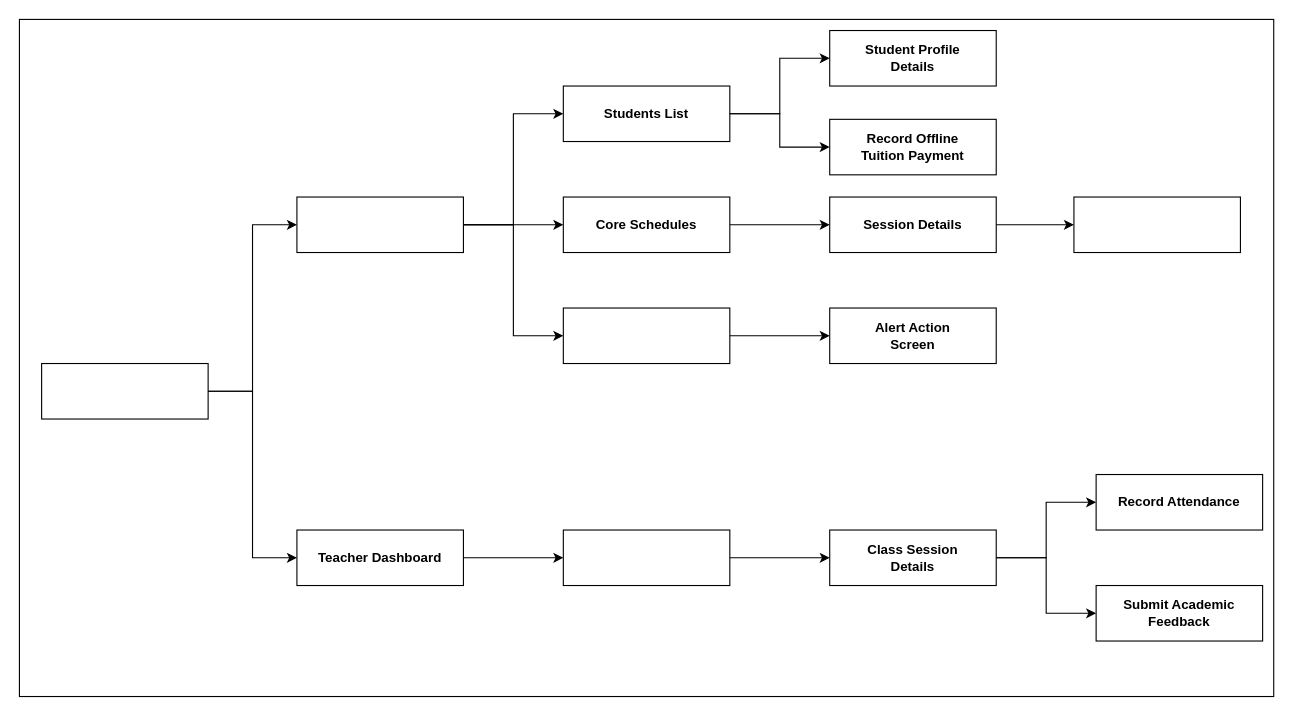
Image size: 1293x716. Some labels were removed from this diagram. Here are the shapes that lost their labels. From the top down, the centre of each, then its label:
At [379,224]: "Admin Dashboard".
At [1156,224]: "Resolve Conflicts Screen".
At [646,335]: "Renewal Alerts".
At [124,390]: "User Login".
At [646,557]: "My Timetable".
